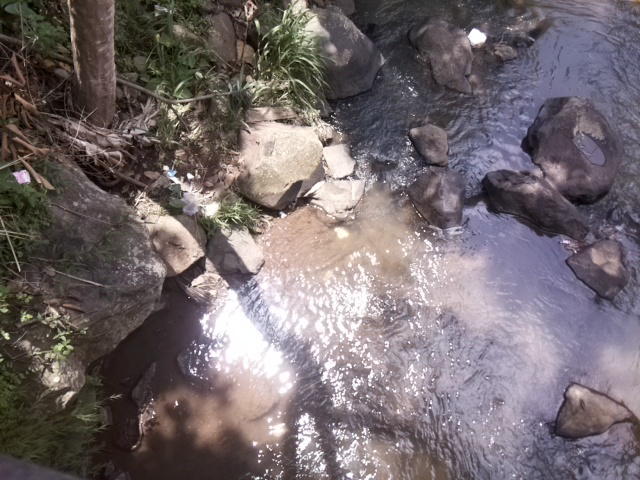Sampah_Styrofoam: (467, 27, 488, 49)
